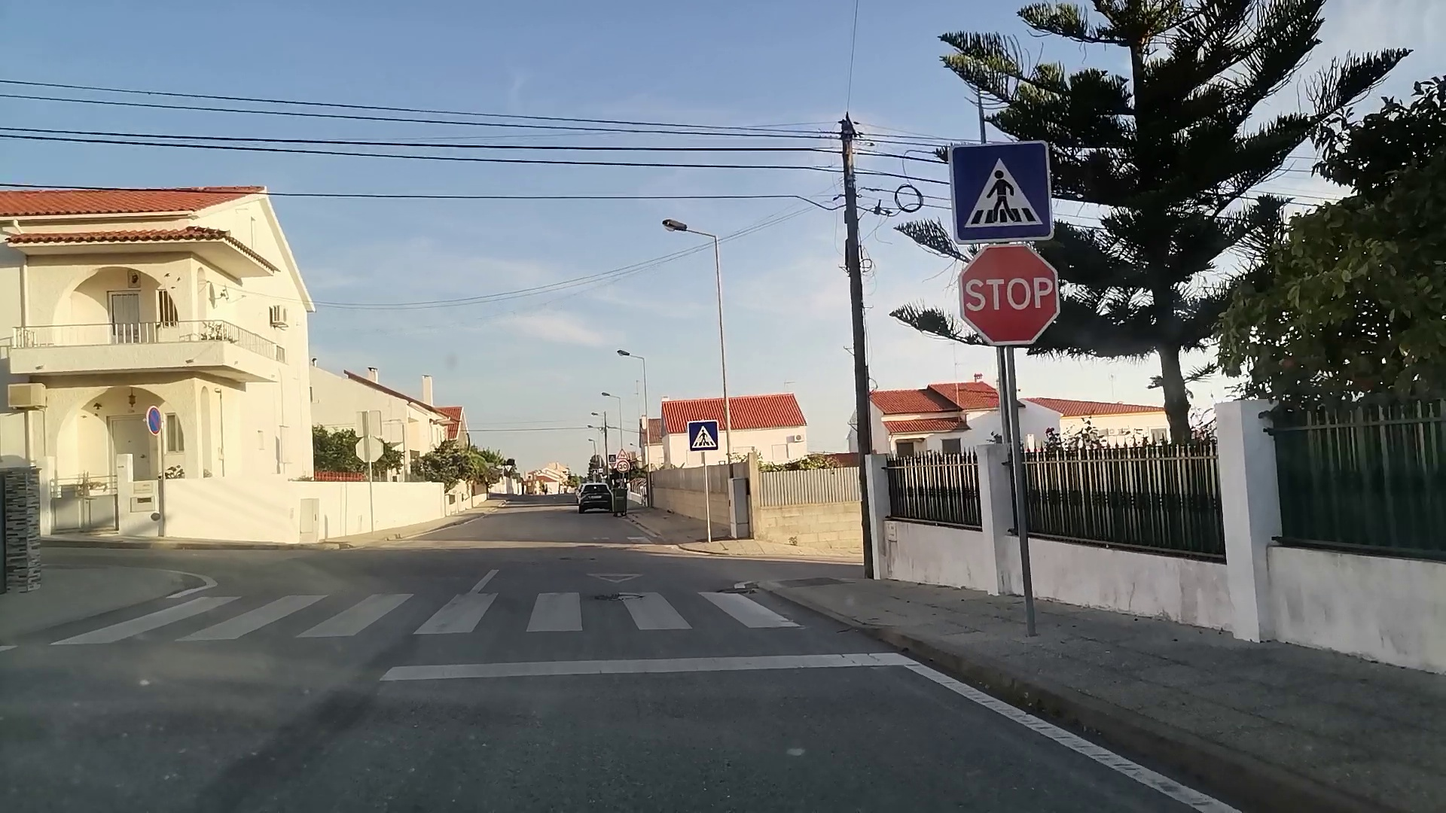Stairs: (55, 588, 807, 644)
